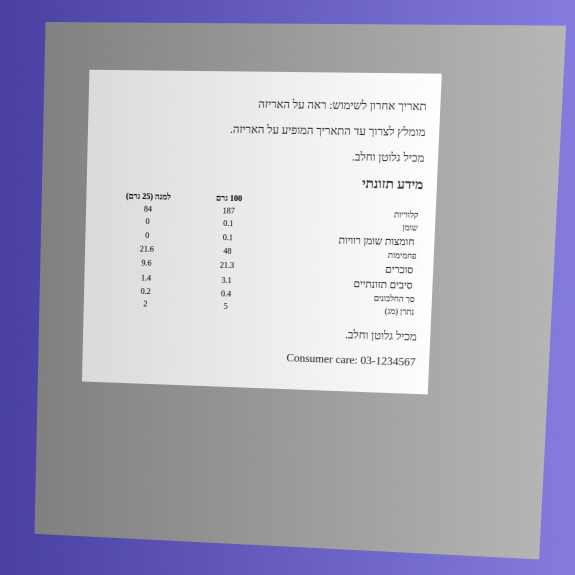carbs: (222, 245, 233, 256)
energy: (221, 205, 236, 216)
fat: (222, 217, 235, 229)
protein: (220, 288, 232, 299)
